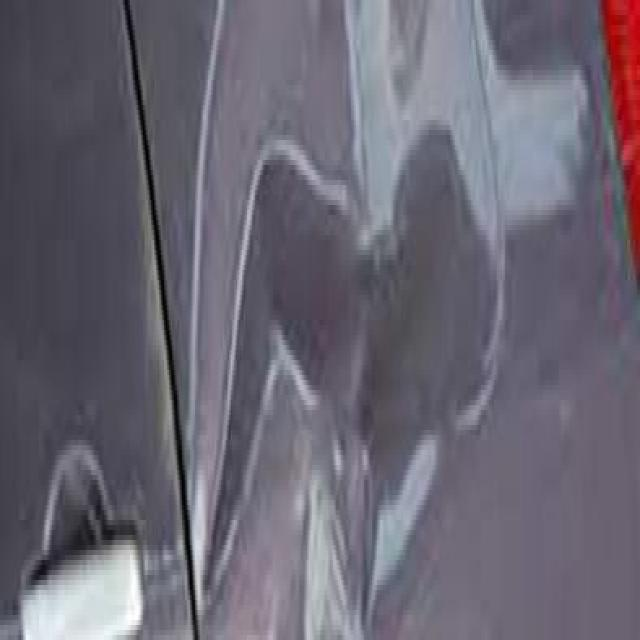dent: (139, 5, 532, 640)
